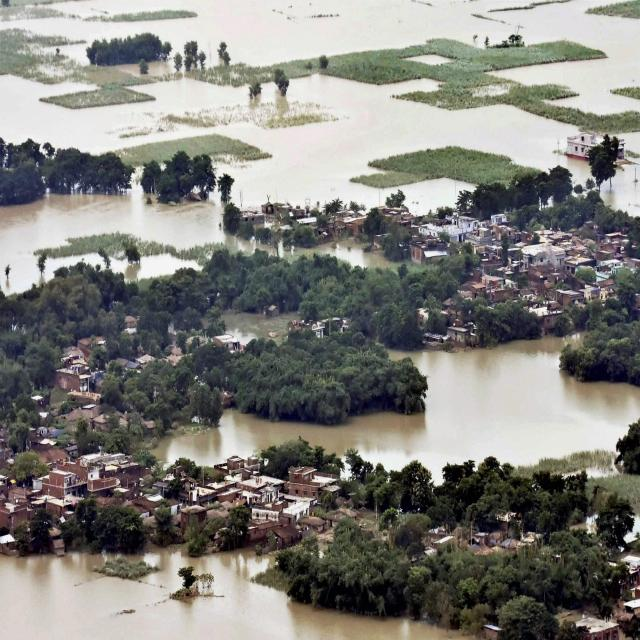flooded_areas: (153, 169, 432, 403), (34, 510, 478, 640), (536, 95, 640, 211)
